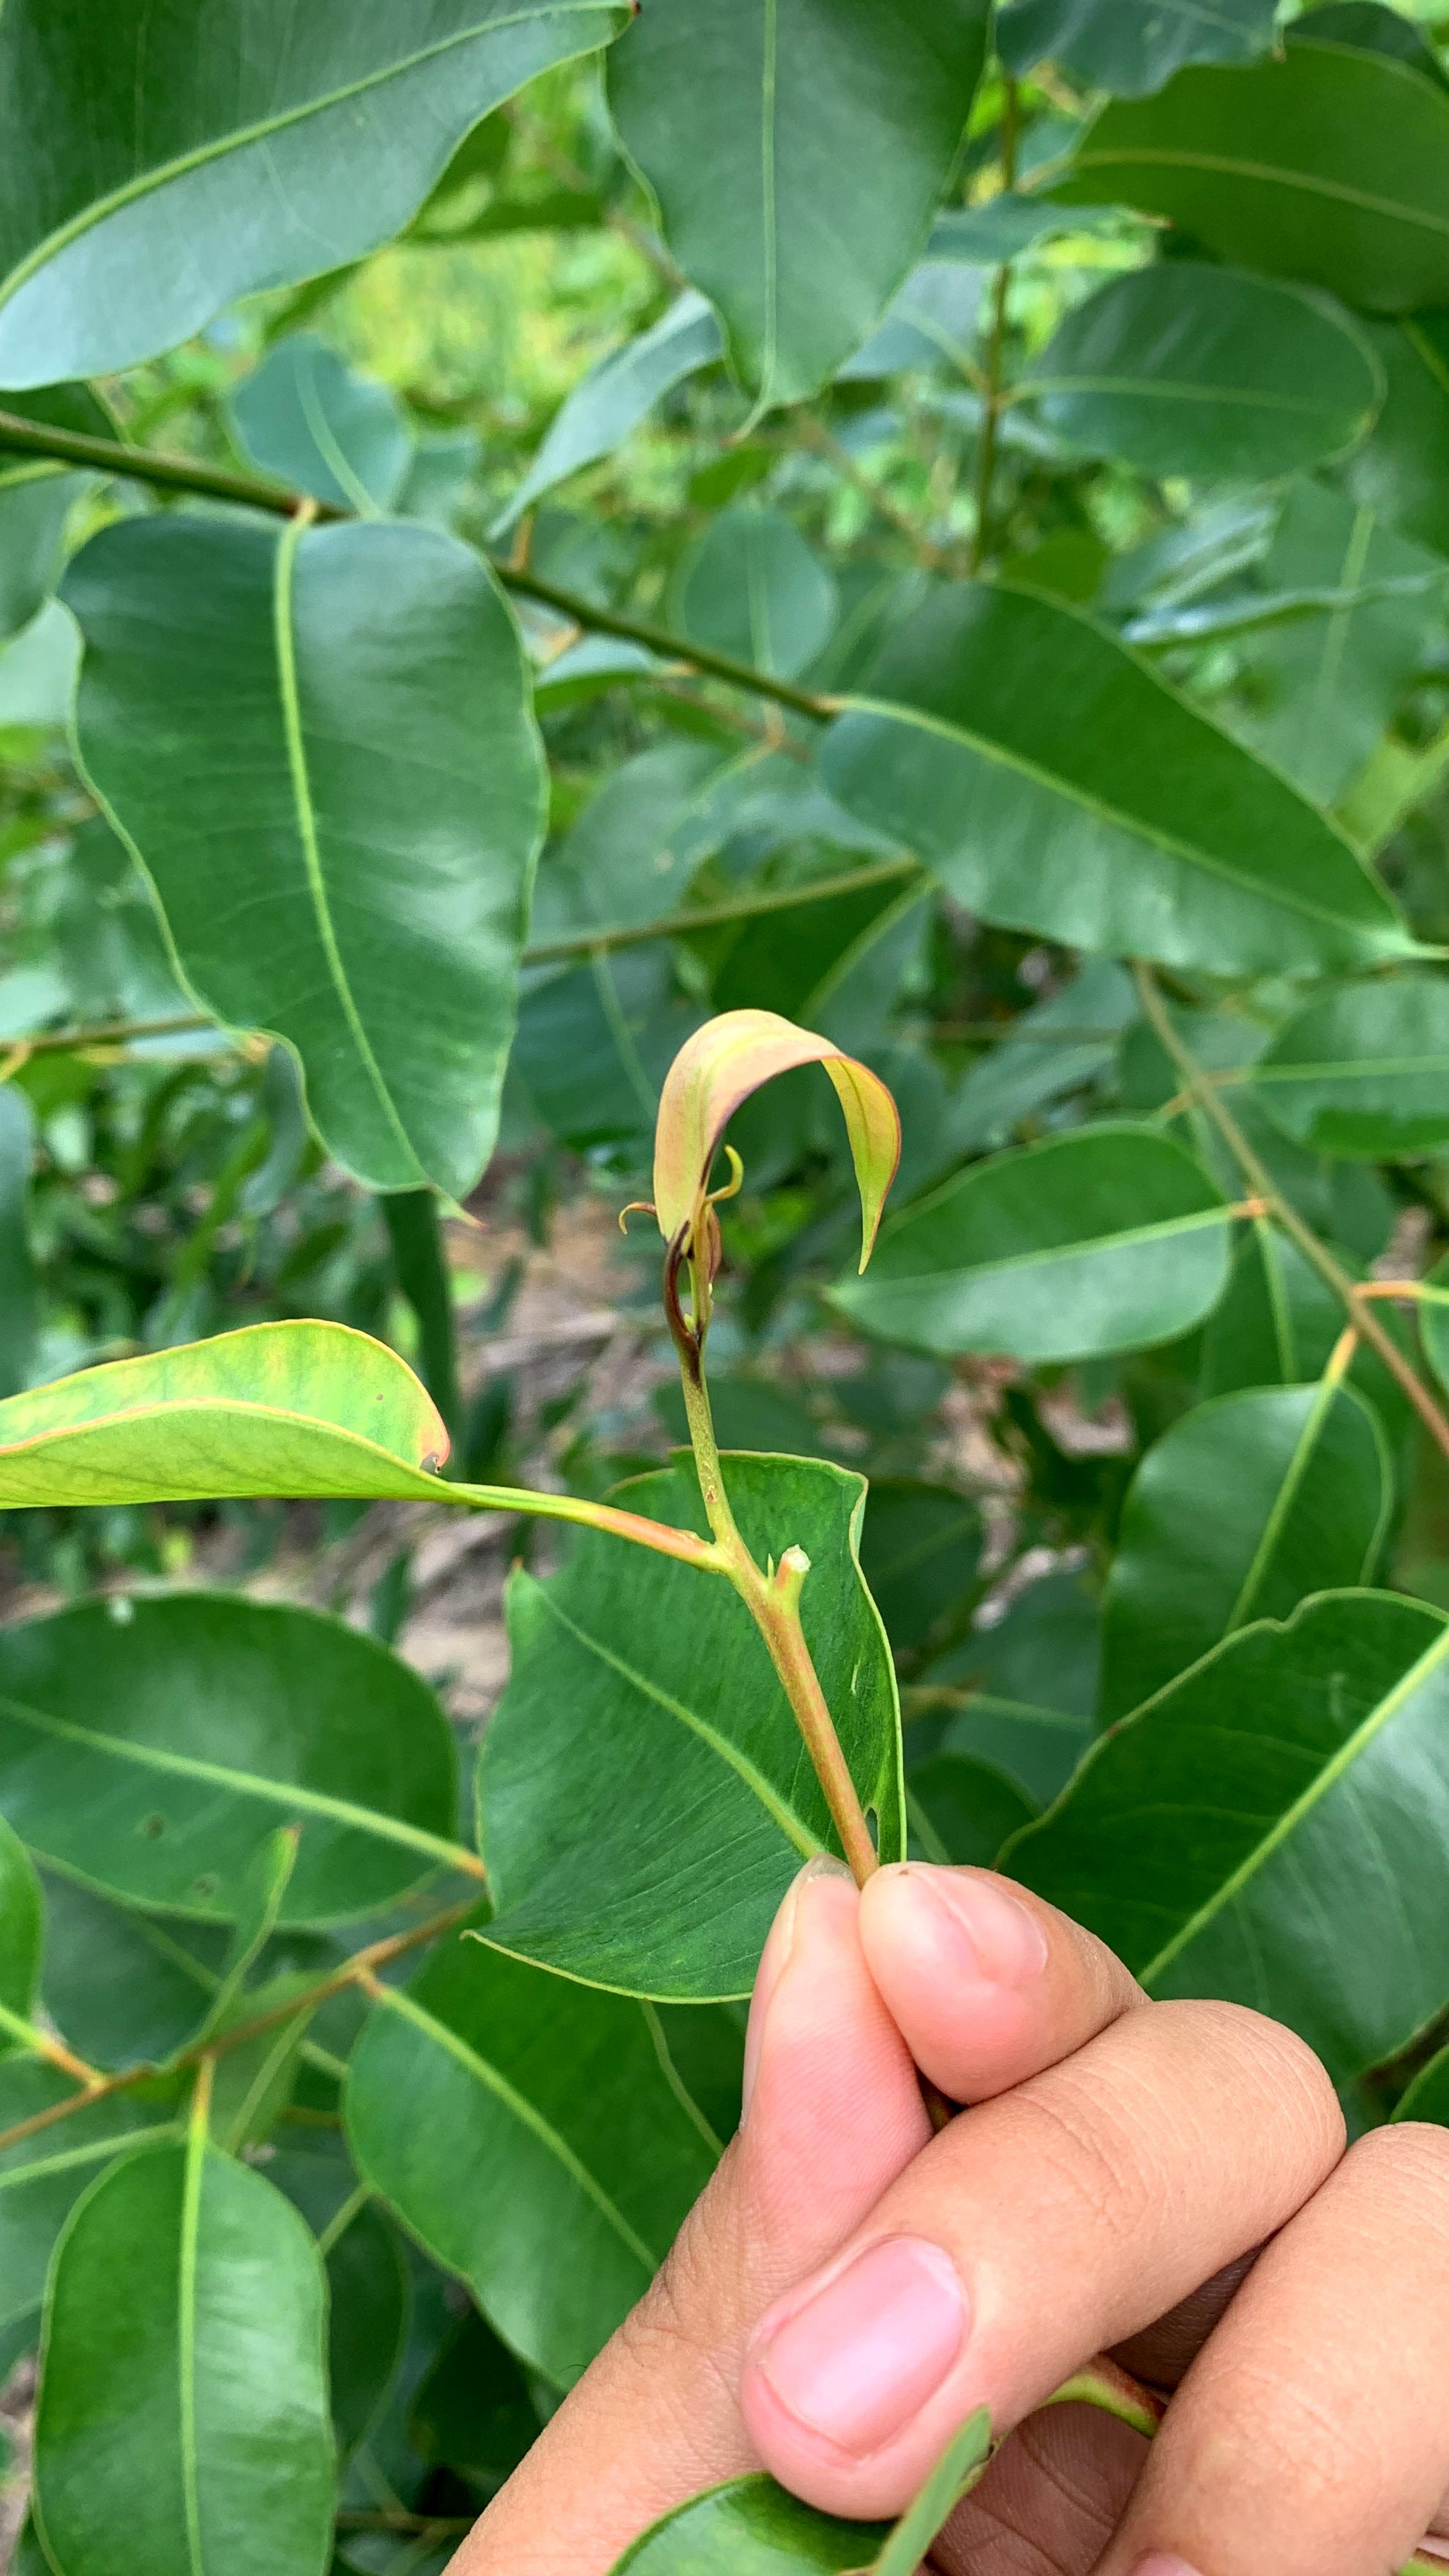Helopeltis-Withered Sprout: (529, 946, 975, 1442)
